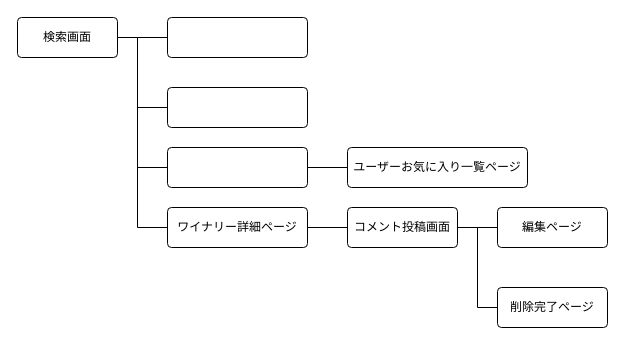
The diagram is 625 pixels wide and 345 high, and some of its shapes have lost their labels. Each missing label, with the centre of its shape:
"ユーザーマイページ" belongs at (x=237, y=167).
"ユーザーログインページ" belongs at (x=237, y=37).
"ユーザー新規登録ページ" belongs at (x=237, y=107).
